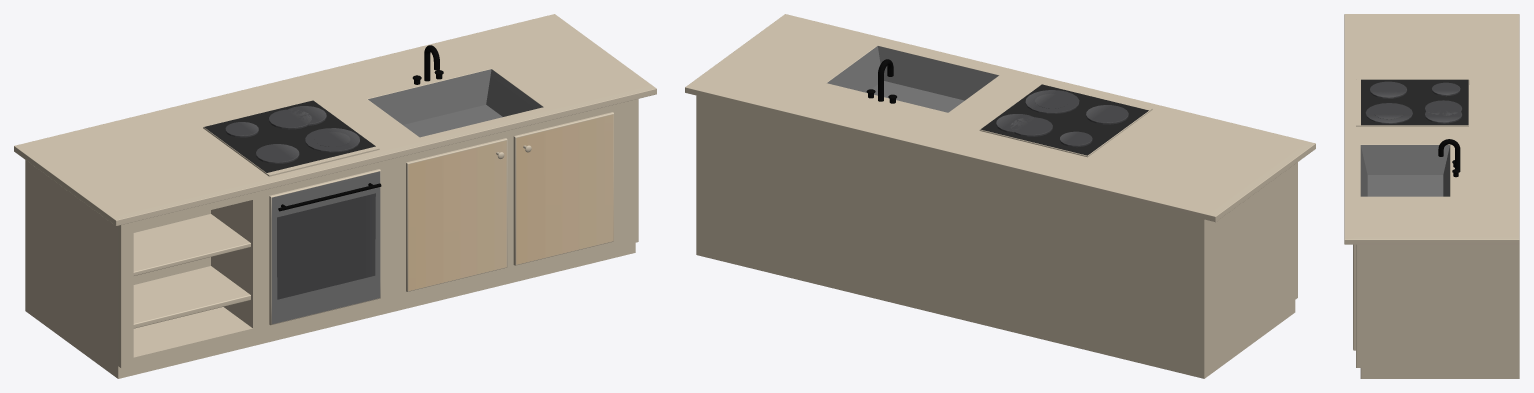
Rendered from kuechetexturedfbx.fbx.
3 views of the same model, side by side, from view 1: azimuth 30°, elevation 25°; view 2: azimuth 150°, elevation 25°; view 3: azimuth 270°, elevation 25° (orthographic). The views are drawn at different scales.
Parts seen in each view (by area): view 1: pCube2; view 2: pCube2; view 3: pCube2.
Part boxes in pixels (x1=…): pCube2: x1=14, y1=14, x2=656, y2=378; pCube2: x1=685, y1=14, x2=1315, y2=378; pCube2: x1=1344, y1=14, x2=1519, y2=378.
Bounding box in the file's own units: 3.37 × 1.22 × 1.1.
Materials: 5 (1 with a texture image).
